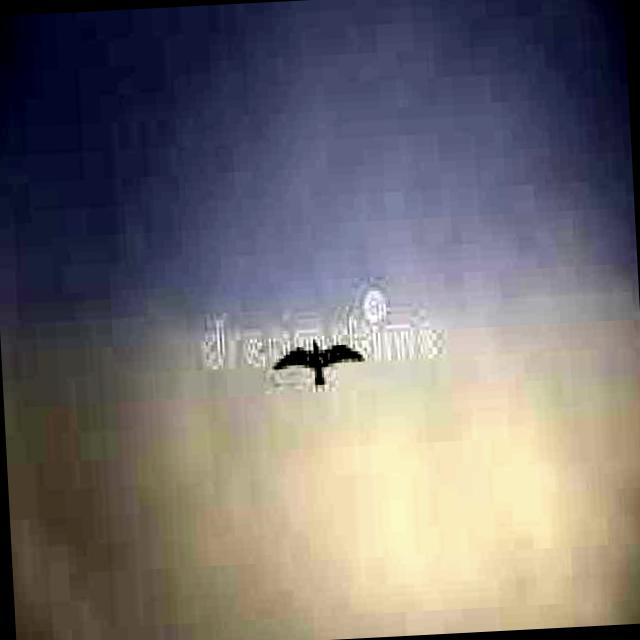bird: (270, 326, 366, 395)
